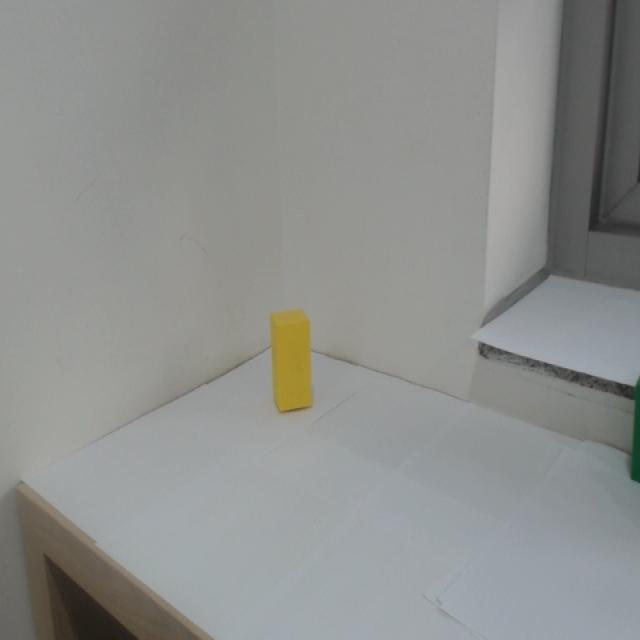cube: (258, 305, 323, 433)
